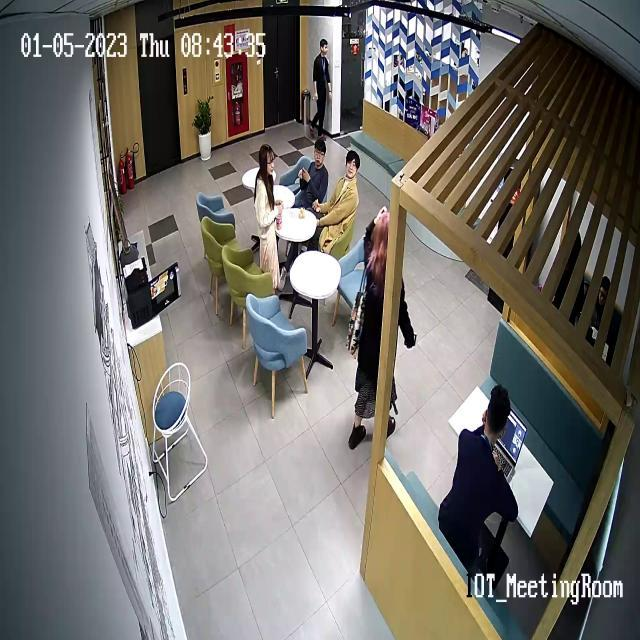person: (438, 384, 519, 598), (347, 207, 417, 450), (313, 148, 361, 256), (254, 143, 286, 291), (296, 137, 329, 211), (311, 38, 332, 140)
